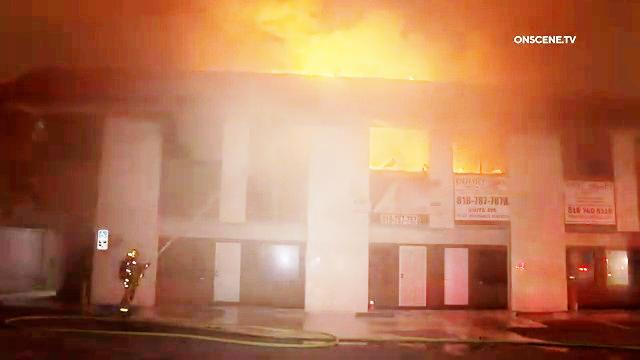smoke: (250, 4, 437, 55)
